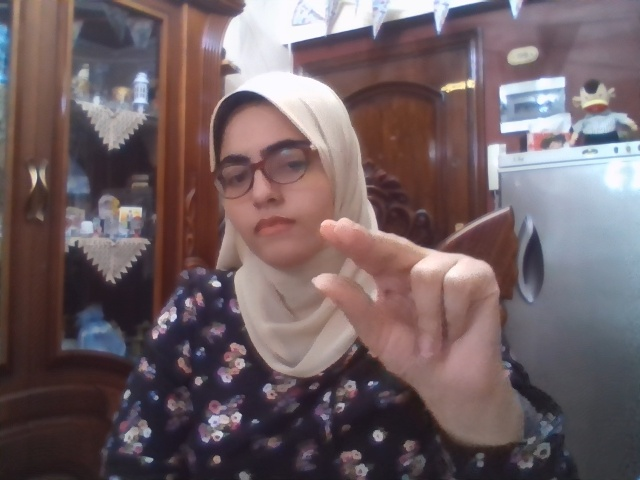no: (314, 219, 503, 399)
